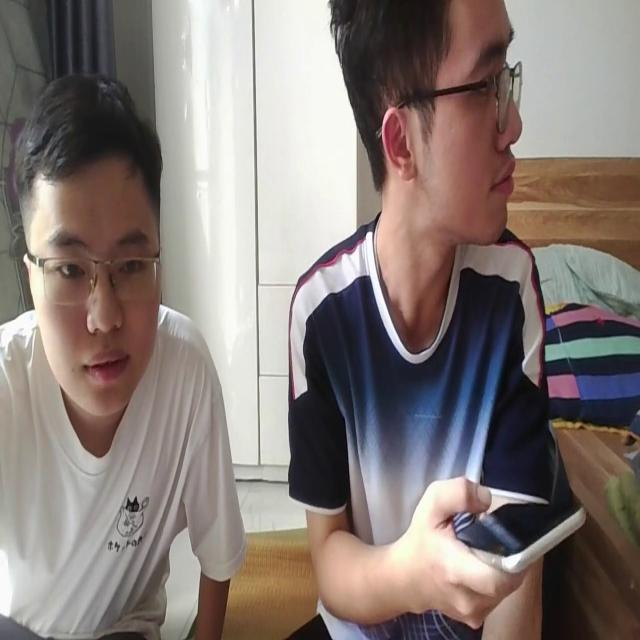extra_person: (1, 68, 242, 640)
phone: (441, 474, 580, 578)
student: (284, 0, 544, 640)
